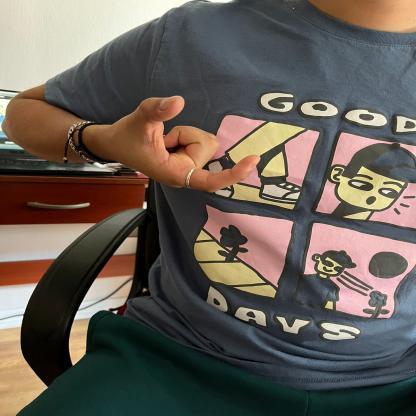G: (100, 90, 267, 200)
